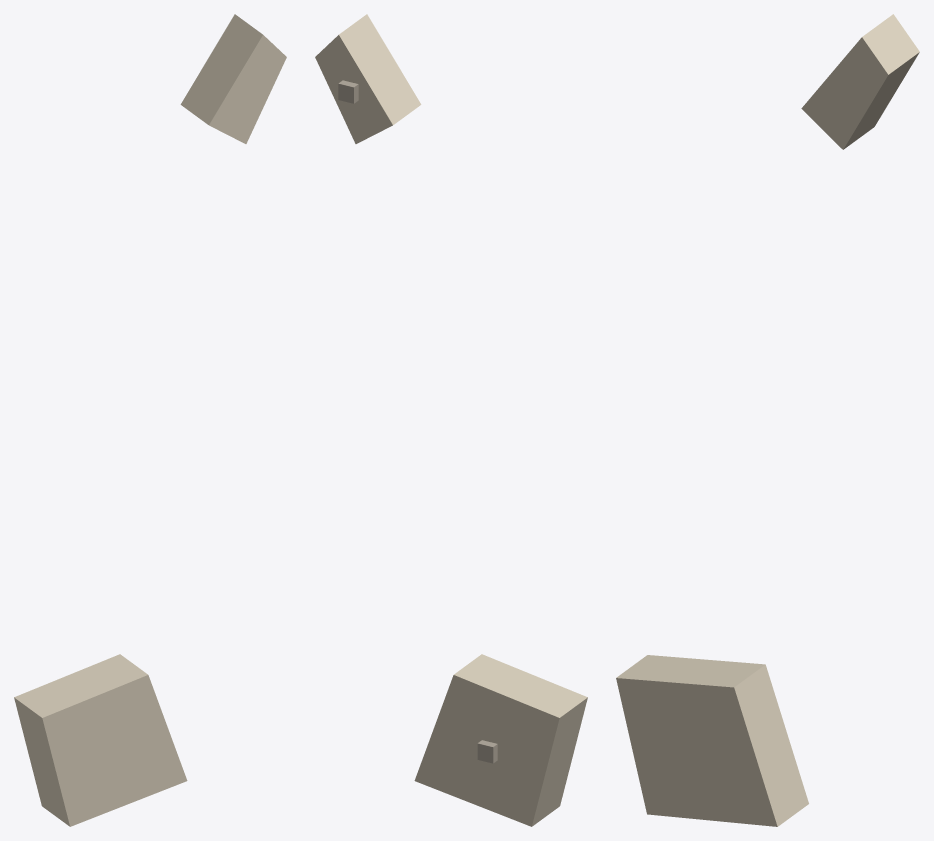
File: historic-palestine-12_28_3541_3228.glb
3 views of the same model, side by side, from view 1: azimuth 30°, elevation 25°; view 2: azimuth 150°, elevation 25°; view 3: azimuth 330°, elevation 25° (orthographic). The views are drawn at different scales.
Visible parts, largest first — view 1: Building_, Building_.001; view 2: Building_, Building_.001; view 3: Building_, Building_.001.
Part boxes in pixels (x1=…): Building_: x1=14, y1=654, x2=187, y2=826; Building_.001: x1=180, y1=14, x2=286, y2=143; Building_: x1=414, y1=654, x2=587, y2=826; Building_.001: x1=315, y1=14, x2=421, y2=143; Building_: x1=616, y1=655, x2=808, y2=826; Building_.001: x1=801, y1=14, x2=919, y2=149.
Bounding box in the file's own units: 37.44 × 109 × 8.7.
